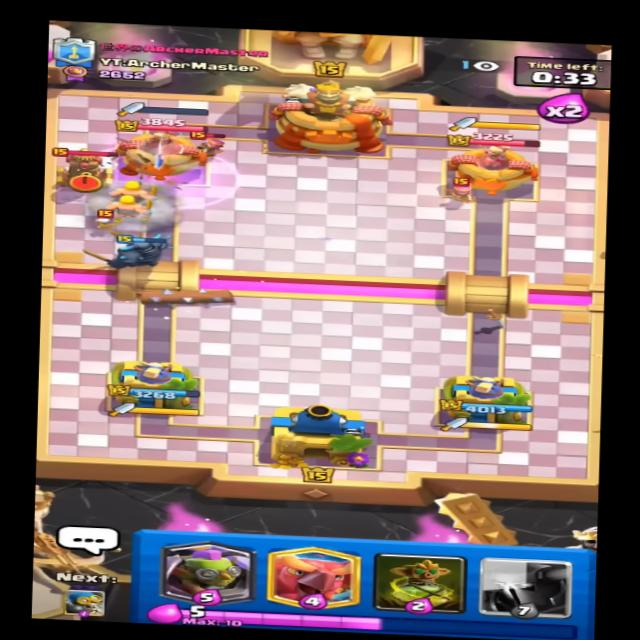Archer: (186, 130, 224, 157), (439, 177, 477, 201)
Log: (132, 285, 241, 308)
Skeleton: (91, 209, 123, 234)
Tesla: (45, 144, 125, 198)
